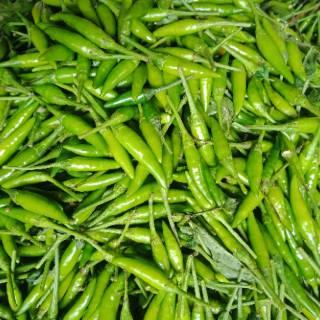Cabai Hijau: (1, 2, 320, 320)
